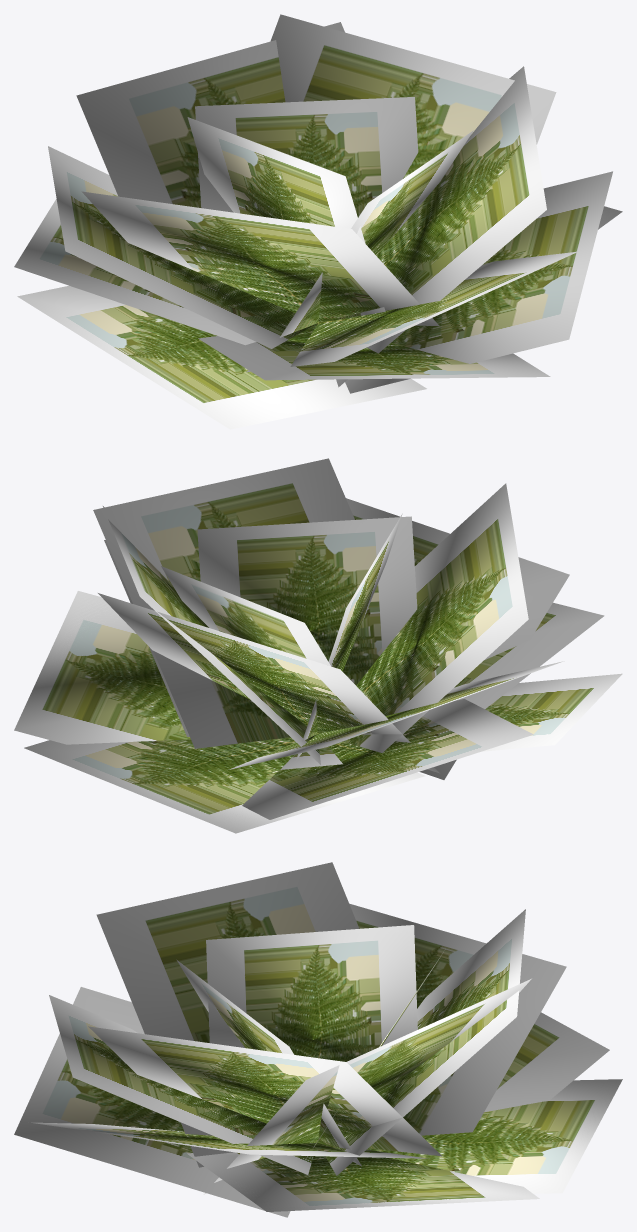
File: Farn.gltf
3 views of the same model, one above another, from view 1: azimuth 30°, elevation 25°; view 2: azimuth 150°, elevation 25°; view 3: azimuth 270°, elevation 25° (orthographic). The views are drawn at different scales.
Parts seen in each view (by area): view 1: Farn; view 2: Farn; view 3: Farn.
Boxes of the visible parts, bbox=[...] form: Farn: bbox=[14, 14, 622, 429]; Farn: bbox=[14, 458, 622, 833]; Farn: bbox=[14, 862, 622, 1217].
Size of the model in its own units: 19.39 by 7.77 by 19.35.
1 material, 1 textured.
